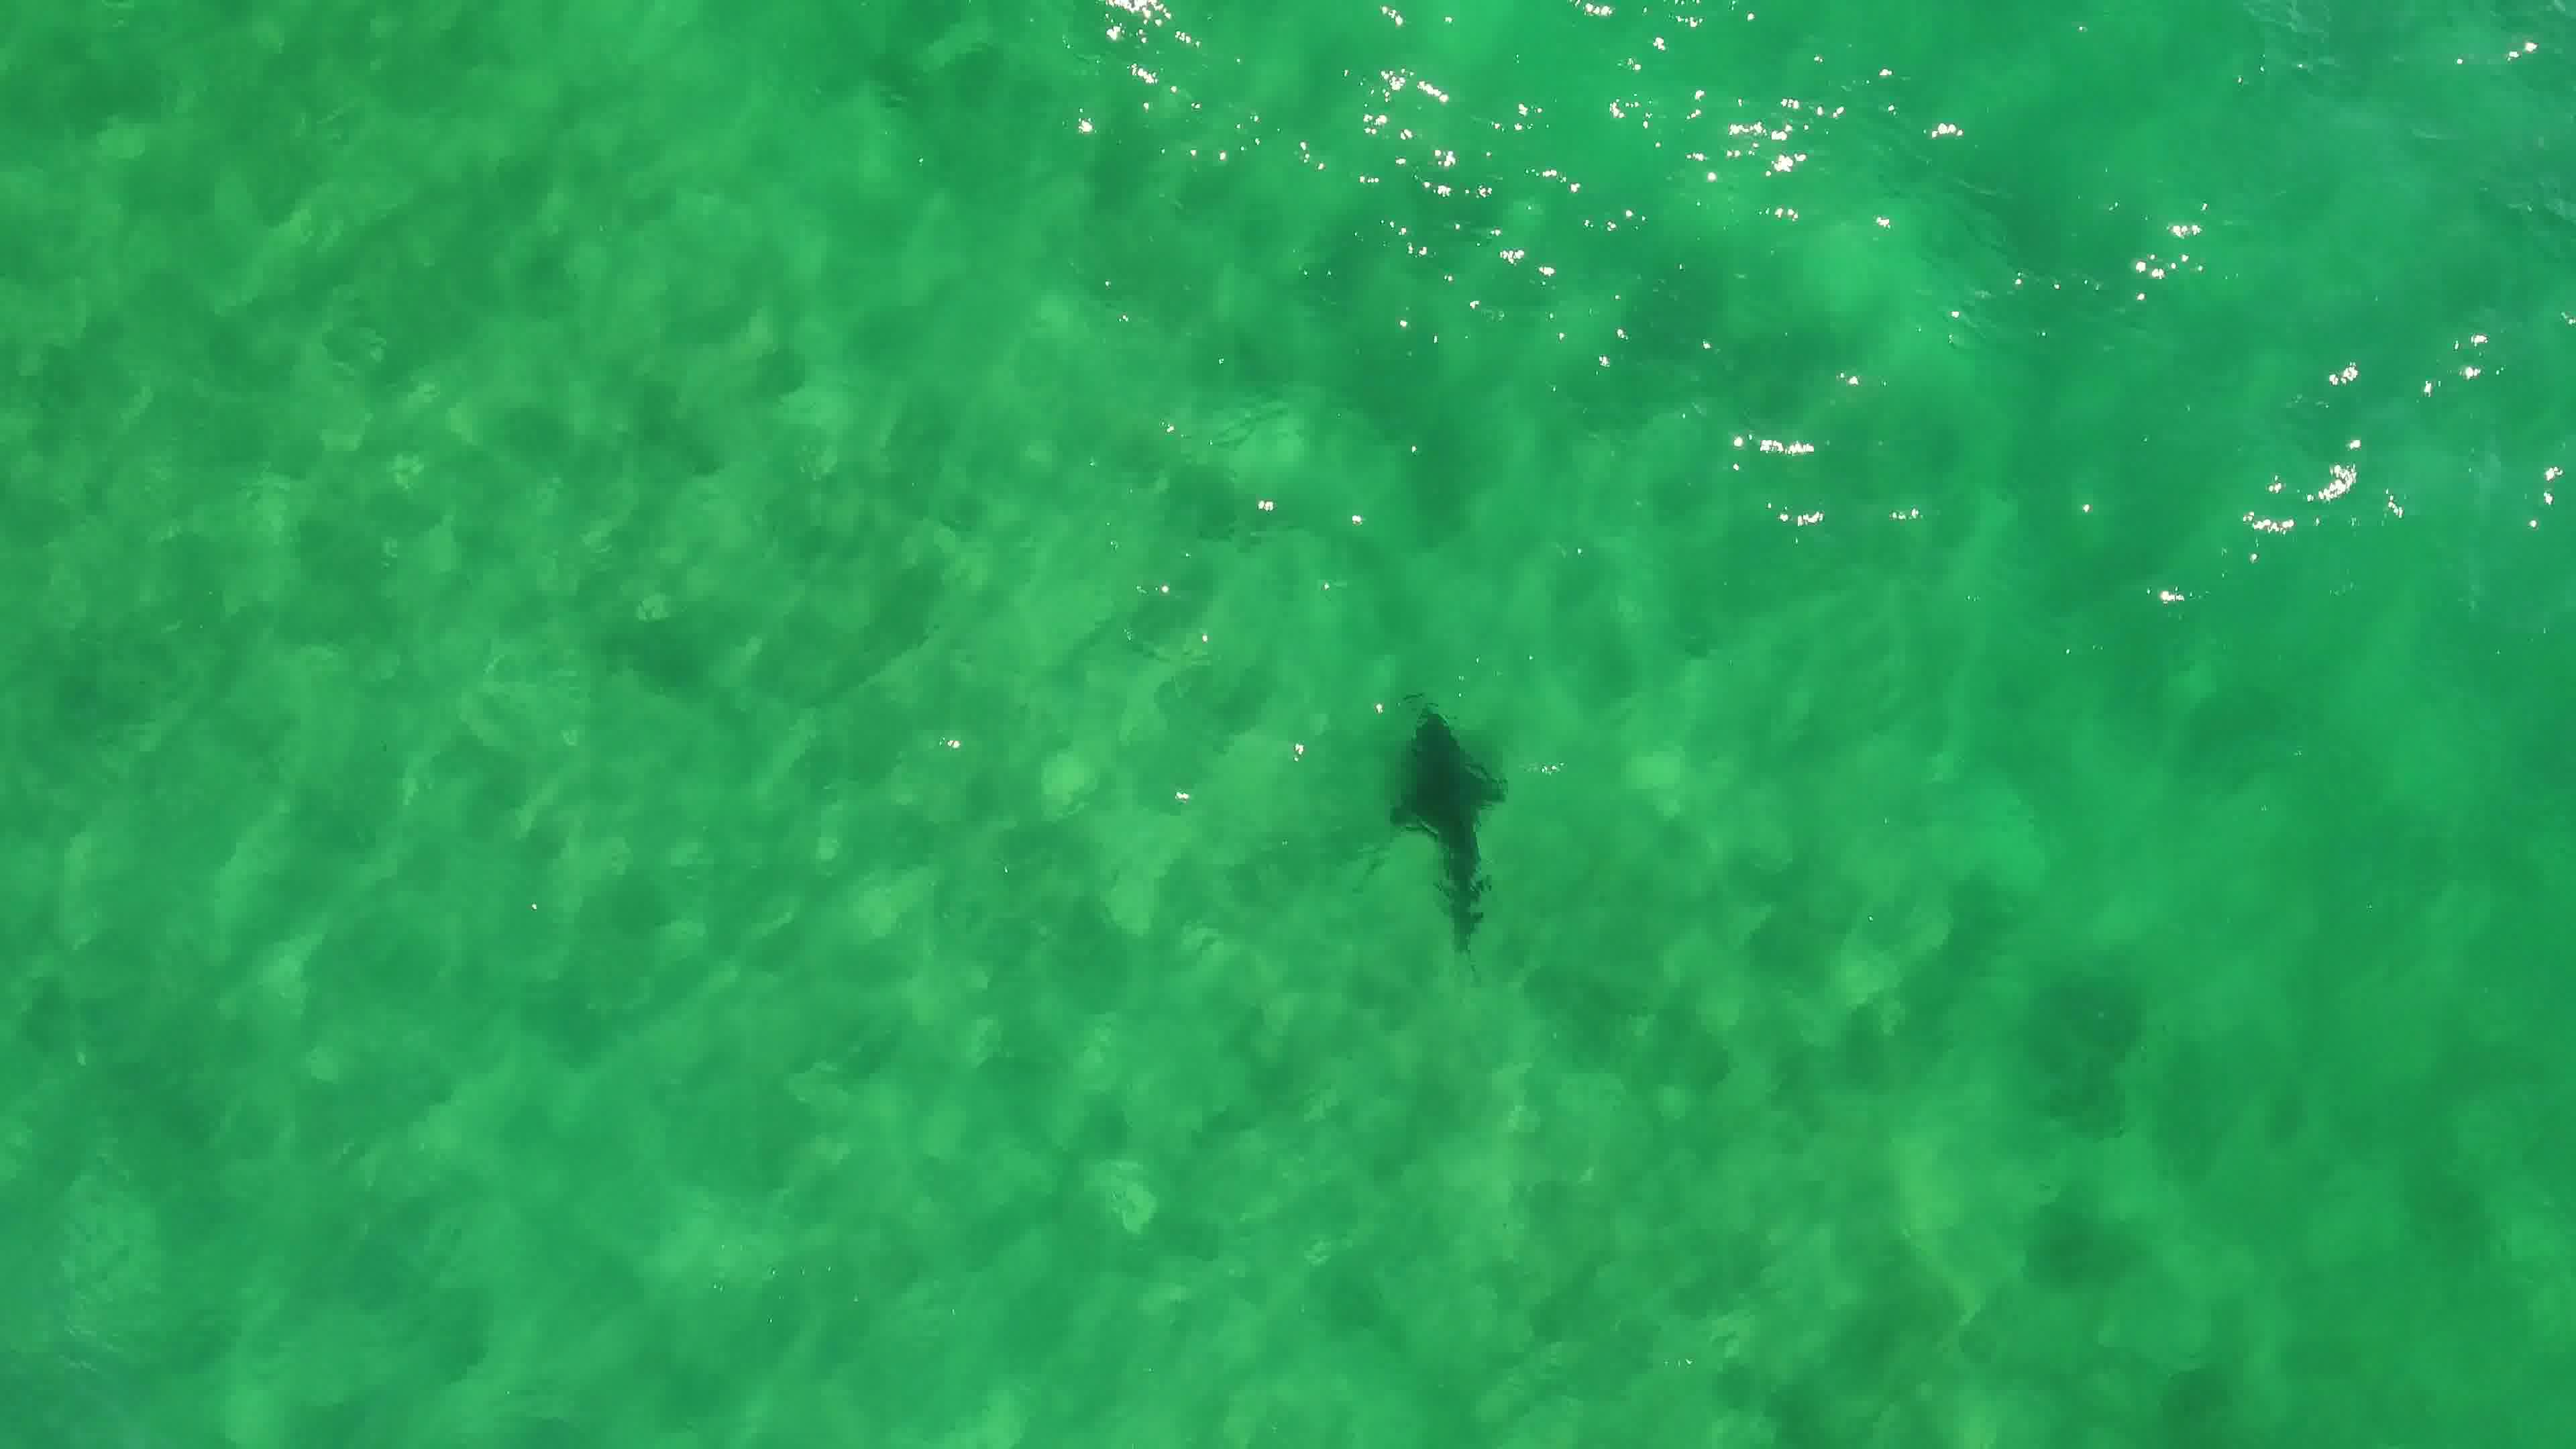shark: (1375, 692, 1516, 957)
